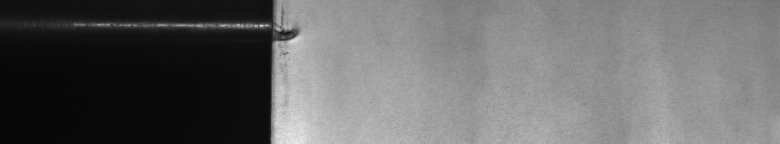hb: (284, 12, 304, 67)
